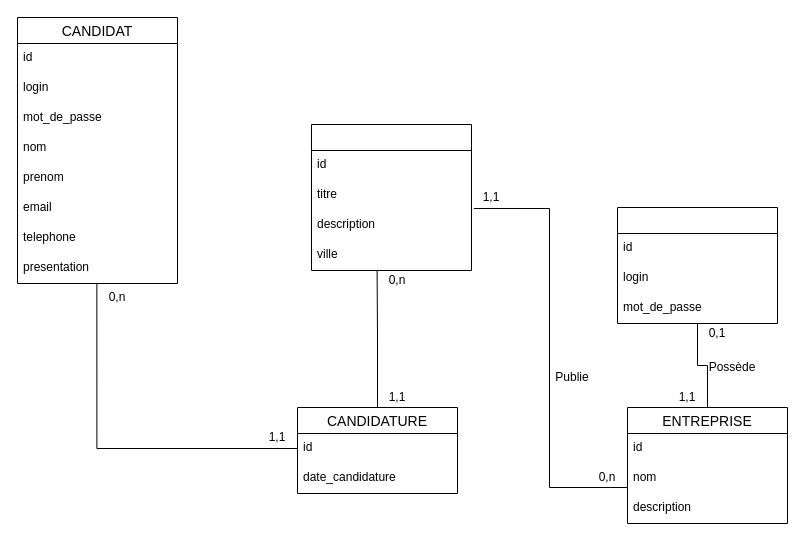
Image size: 805x544. Some labels were removed from this diagram. The shapes that lost their labels are listed below. From the top down, each one's box as (x1, y1, x2, y2) in pixels, then its label:
(310, 124, 472, 270): OFFRE
(616, 206, 778, 324): RECRUTEUR
